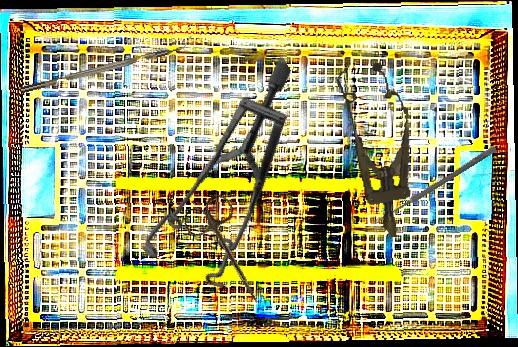Chopper: (17, 35, 196, 94)
Iris Scissors: (178, 190, 282, 315)
Speculum: (94, 55, 369, 315), (331, 59, 428, 243)
Surgical Spoon: (372, 144, 498, 227)
